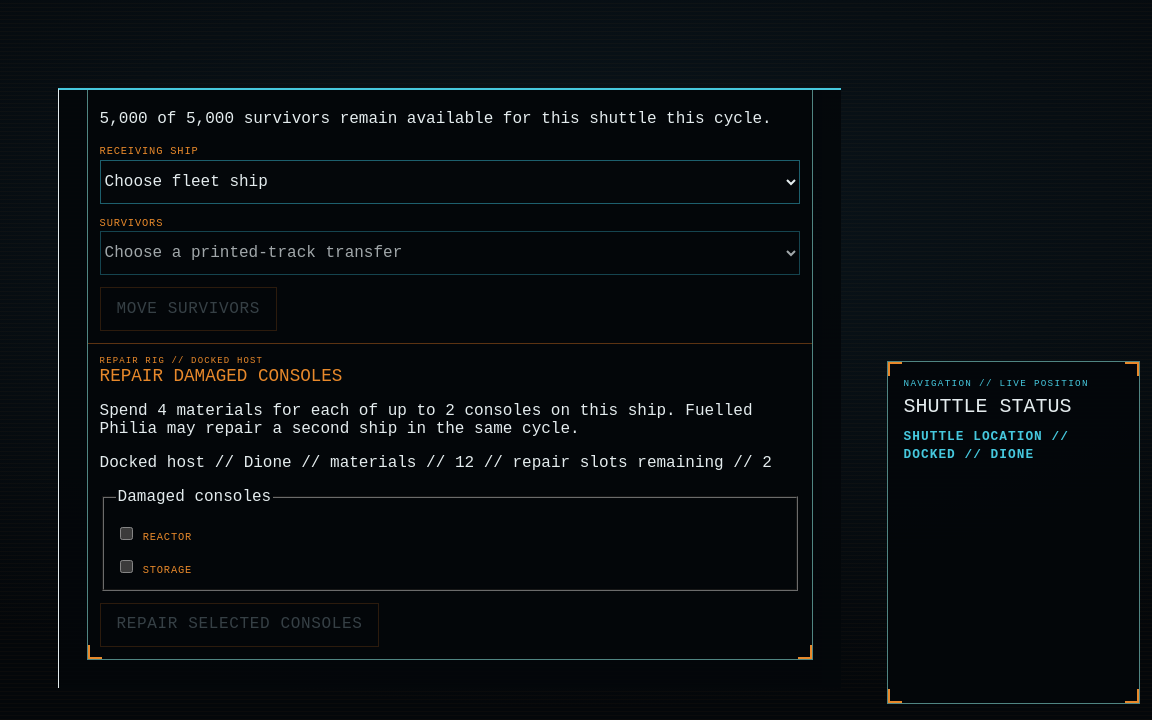
it: places a playable repair control in Philia operations and sends the selected console
(page scrolled)
Click the checkbox labelled "Reactor" at (126,533), box [120,527,133,540]
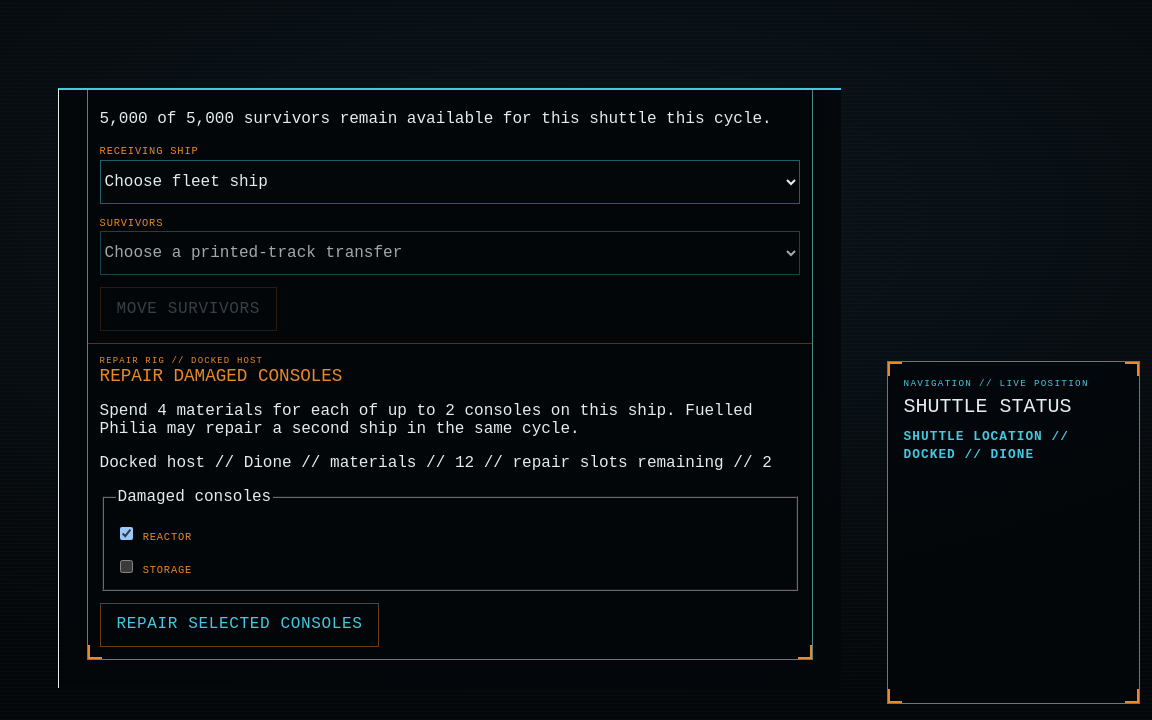
Click the checkbox labelled "Storage" at (126,567), box [120,560,133,573]
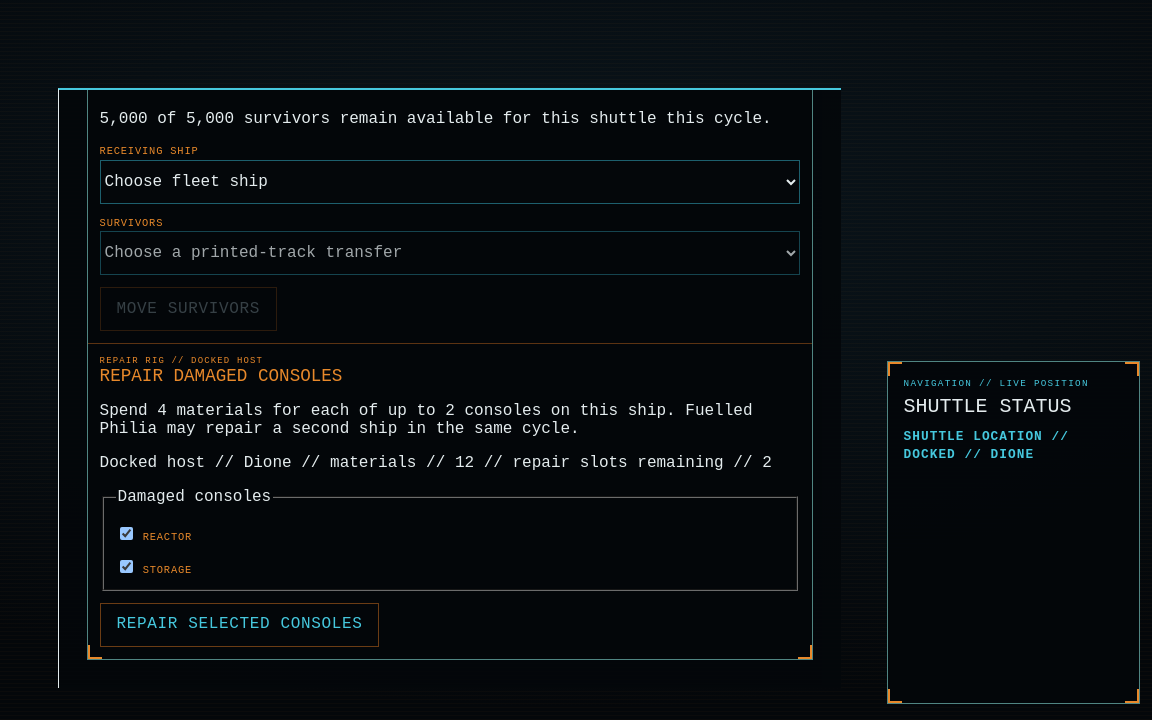
Click the button "Repair selected consoles" at (240,625), box [100,603,379,647]
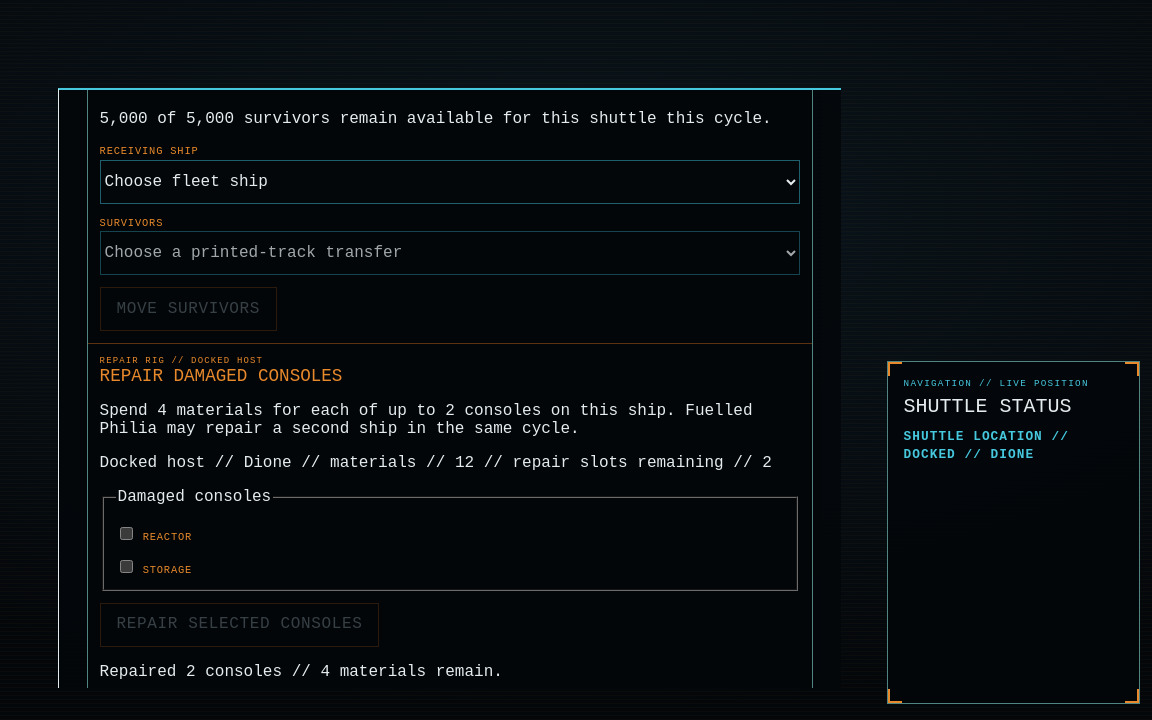
Check: the message reads "Repaired 2 consoles // 4 materials remain.", box [100,663,503,681]
